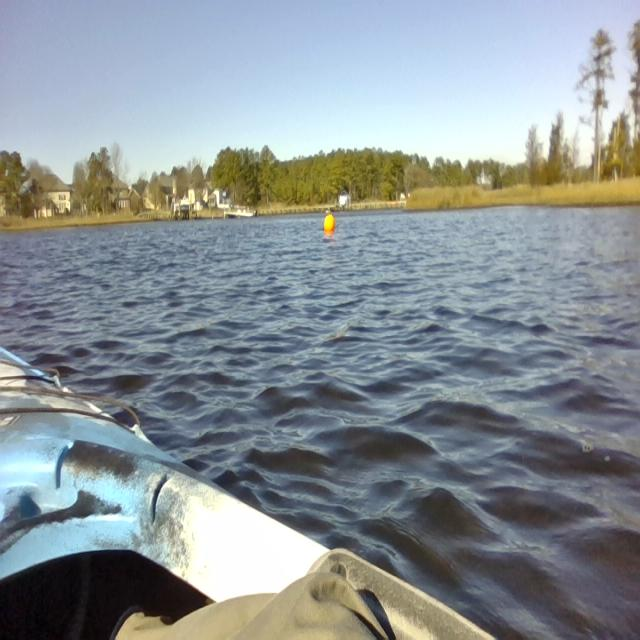Buoy: (322, 212, 338, 237)
